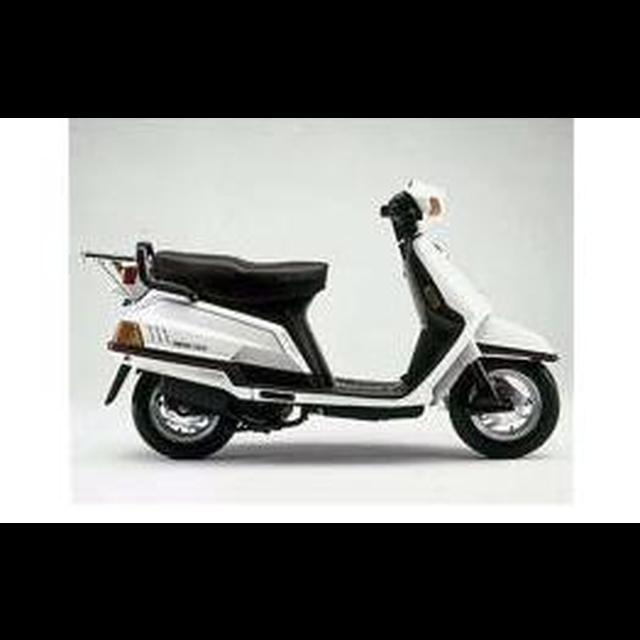motorcycle: (77, 173, 567, 463)
